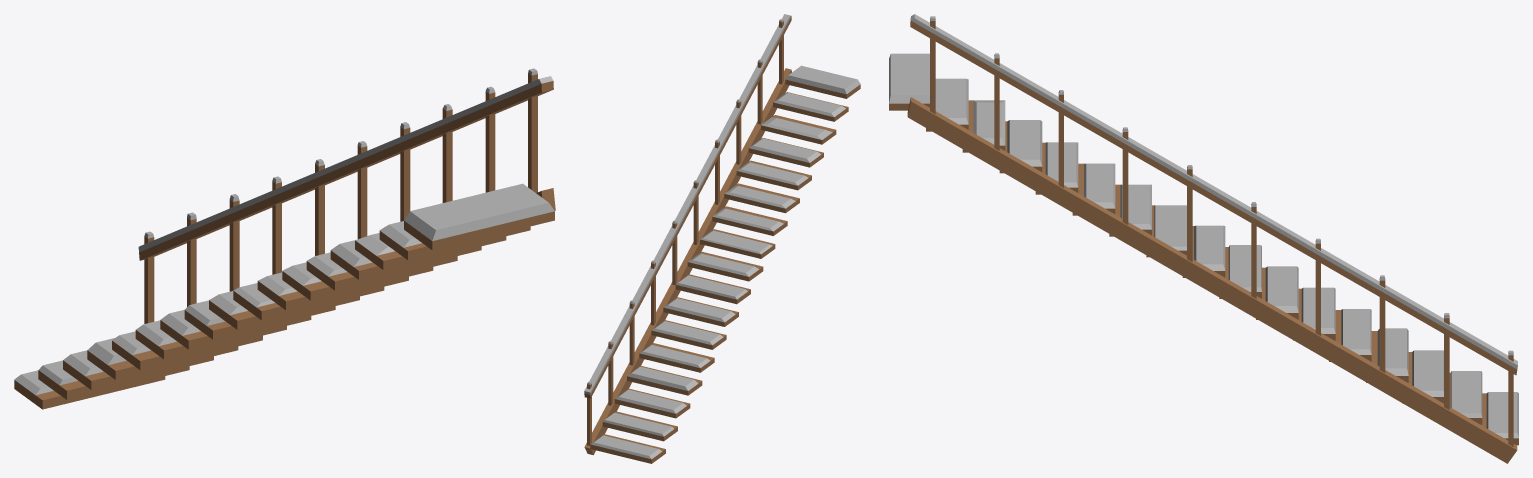
File: Stairs_2 Winter.fbx
3 views of the same model, side by side, from view 1: azimuth 30°, elevation 25°; view 2: azimuth 150°, elevation 25°; view 3: azimuth 270°, elevation 25° (orthographic). The views are drawn at different scales.
Visible parts, largest first — view 1: Stairs2Winter_mesh; view 2: Stairs2Winter_mesh; view 3: Stairs2Winter_mesh.
Part boxes in pixels (x1,y1,x2,y2): Stairs2Winter_mesh: (14, 68, 555, 409); Stairs2Winter_mesh: (584, 14, 860, 463); Stairs2Winter_mesh: (889, 14, 1518, 463).
Bounding box in the file's own units: 84.1 × 350 × 449.
